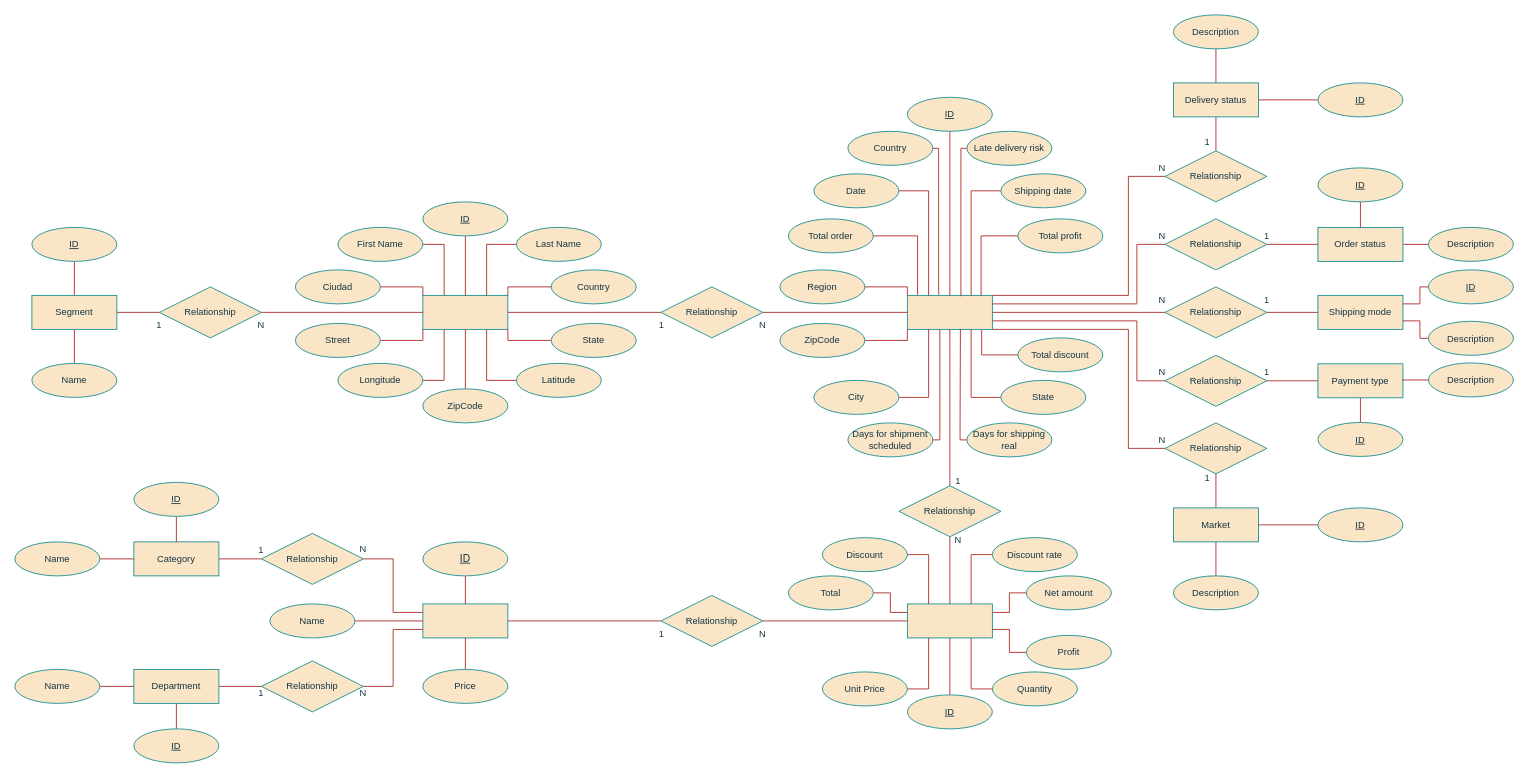
This 1528x778 diagram has some shape labels left out. Here are the shapes that lost their labels. From the top down, the centre of each, then its label:
(465,312): Customer
(949,312): Order
(465,620): Product
(949,620): Order Details
